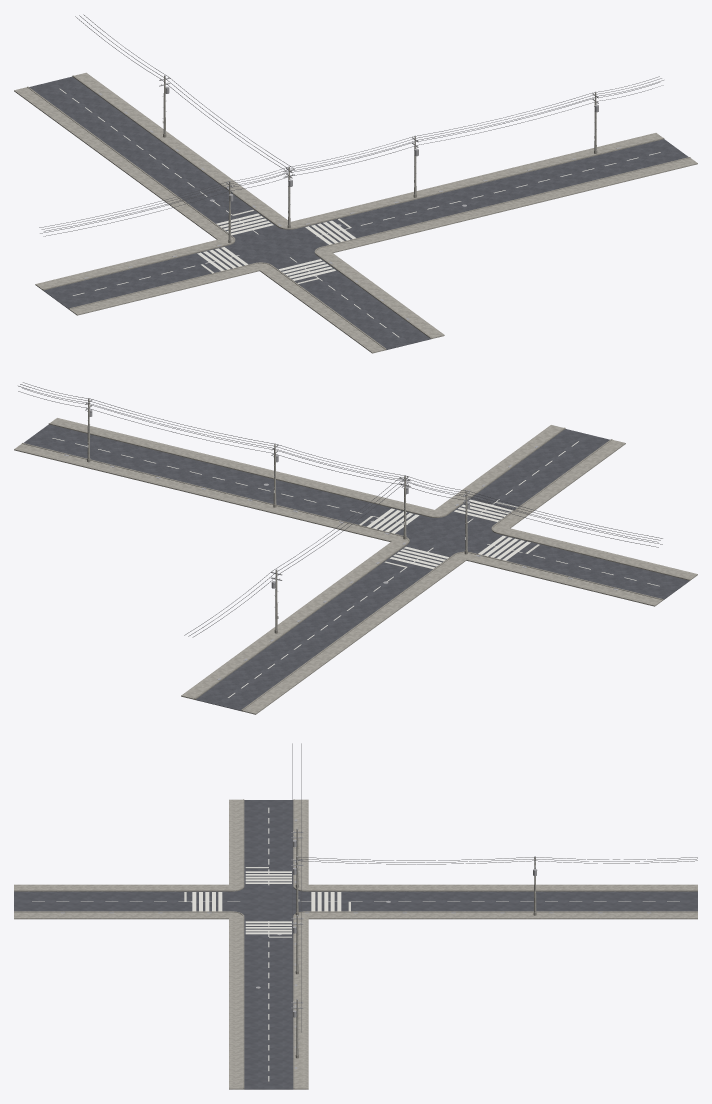
File: streets.glb
3 views of the same model, one above another, from view 1: azimuth 30°, elevation 25°; view 2: azimuth 150°, elevation 25°; view 3: azimuth 270°, elevation 25° (orthographic). The views are drawn at different scales.
Visible parts, largest first — view 1: corner_road_far_e, walk_arc_ne, kerb_arc_ne, wire_front_0_0_0, dash_front_0, pole_0, drain_front_0; view 2: corner_road_far_e, walk_arc_ne, kerb_arc_ne, wire_front_0_0_0, dash_front_0, pole_0, drain_front_0; view 3: corner_road_far_e, walk_arc_ne, kerb_arc_ne, dash_front_0, wire_front_0_0_0, pole_0, drain_front_0.
Boxes of the visible parts, box(x1,y1,x2,y2) form: corner_road_far_e: box(29, 76, 688, 349); walk_arc_ne: box(14, 72, 697, 353); kerb_arc_ne: box(27, 75, 690, 350); wire_front_0_0_0: box(39, 14, 663, 236); dash_front_0: box(59, 88, 660, 337); pole_0: box(163, 76, 596, 239); drain_front_0: box(84, 75, 620, 319); corner_road_far_e: box(24, 424, 689, 710); walk_arc_ne: box(14, 418, 697, 714); kerb_arc_ne: box(22, 423, 690, 711); wire_front_0_0_0: box(18, 382, 662, 637); dash_front_0: box(52, 438, 659, 697); pole_0: box(87, 399, 467, 630); drain_front_0: box(64, 398, 618, 679); corner_road_far_e: box(14, 800, 697, 1089); walk_arc_ne: box(14, 799, 697, 1089); kerb_arc_ne: box(14, 799, 697, 1089); dash_front_0: box(32, 807, 679, 1081); wire_front_0_0_0: box(292, 743, 697, 1032); pole_0: box(296, 829, 536, 1055); drain_front_0: box(60, 819, 651, 1068).
Bounding box in the file's own units: 84 × 8.05 × 84.
10 materials, 4 textured.
